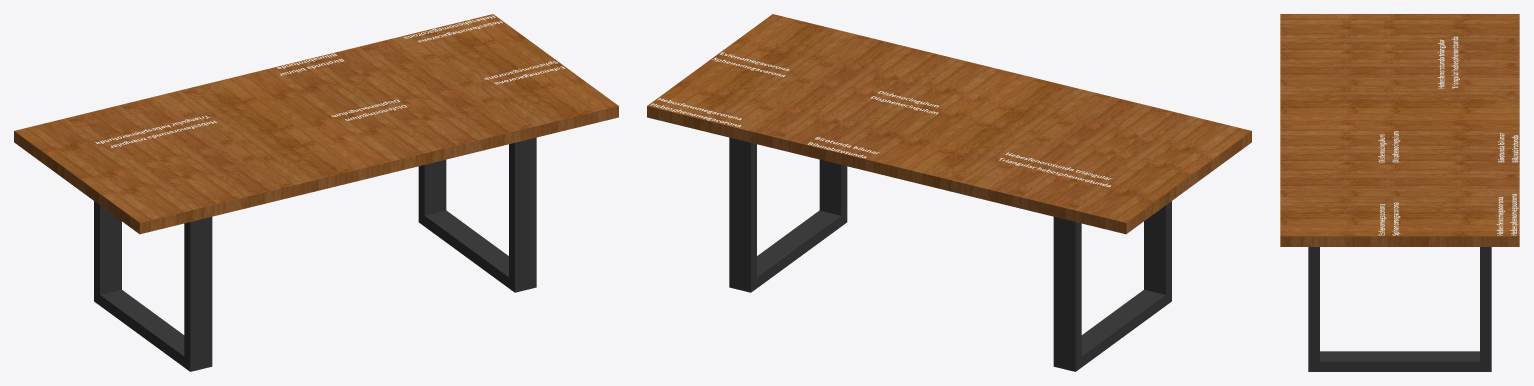
File: johnson3f.glb
The picture shows the model from 3 angles, left to right: view 1: azimuth 30°, elevation 25°; view 2: azimuth 150°, elevation 25°; view 3: azimuth 270°, elevation 25°; orthographic projection. The views are drawn at different scales.
Visible parts, largest first — view 1: object 1, Composant#1 (×2), Hebesfenorotunda; view 2: object 1, Composant#1 (×2), Hebesfenorotunda; view 3: object 1, Composant#1, Hebesfenorotunda, Hebesfenomegacor, Esfenomegacorona, Disfenocingulum, Birotunda biluna.
Boxes of the visible parts, left/top/right/bottom form: object 1: left=14, top=14, right=618, bottom=234; Composant#1 (×2): left=94, top=137, right=536, bottom=371; Hebesfenorotunda: left=95, top=115, right=216, bottom=147; object 1: left=647, top=14, right=1251, bottom=234; Composant#1 (×2): left=729, top=137, right=1171, bottom=371; Hebesfenorotunda: left=999, top=152, right=1111, bottom=187; object 1: left=1280, top=14, right=1519, bottom=246; Composant#1: left=1308, top=247, right=1491, bottom=371; Hebesfenorotunda: left=1438, top=36, right=1459, bottom=88; Hebesfenomegacor: left=1496, top=194, right=1518, bottom=235; Esfenomegacorona: left=1378, top=202, right=1400, bottom=235; Disfenocingulum: left=1378, top=131, right=1400, bottom=162; Birotunda biluna: left=1498, top=133, right=1518, bottom=162.
Size of the model in its own units: 2.2 by 0.771 by 1.
Materials: 3 (1 with a texture image).
